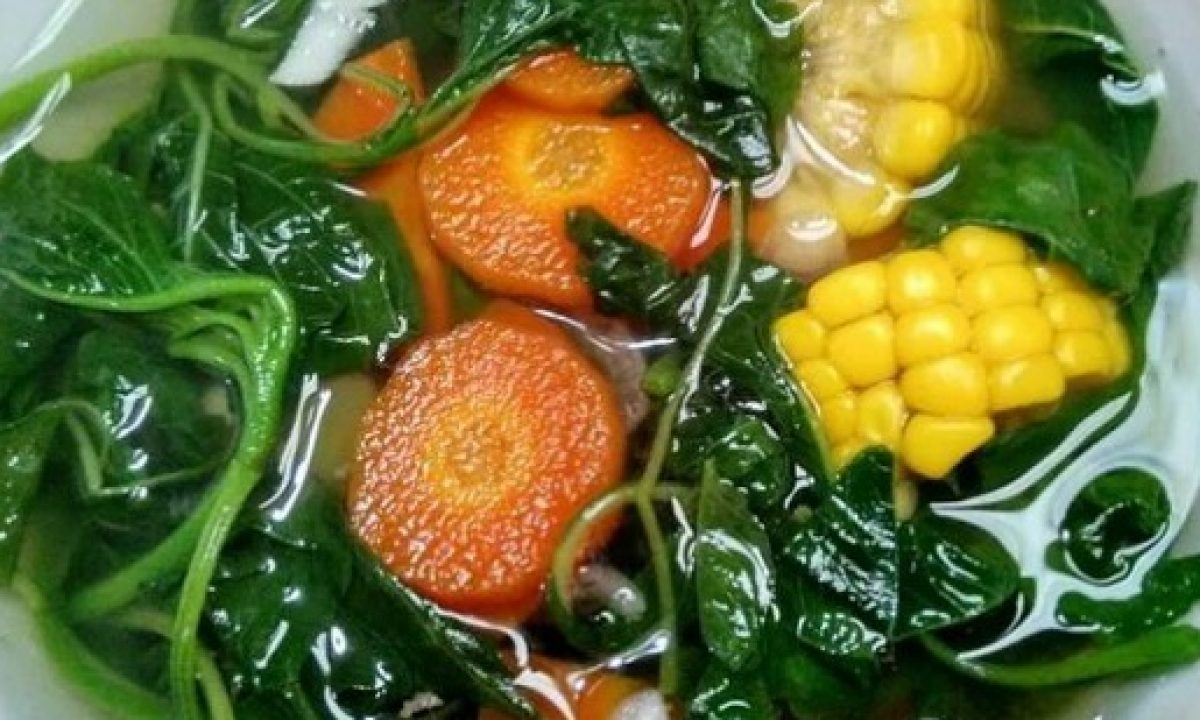Sayur Bayam: (35, 3, 1179, 720)
